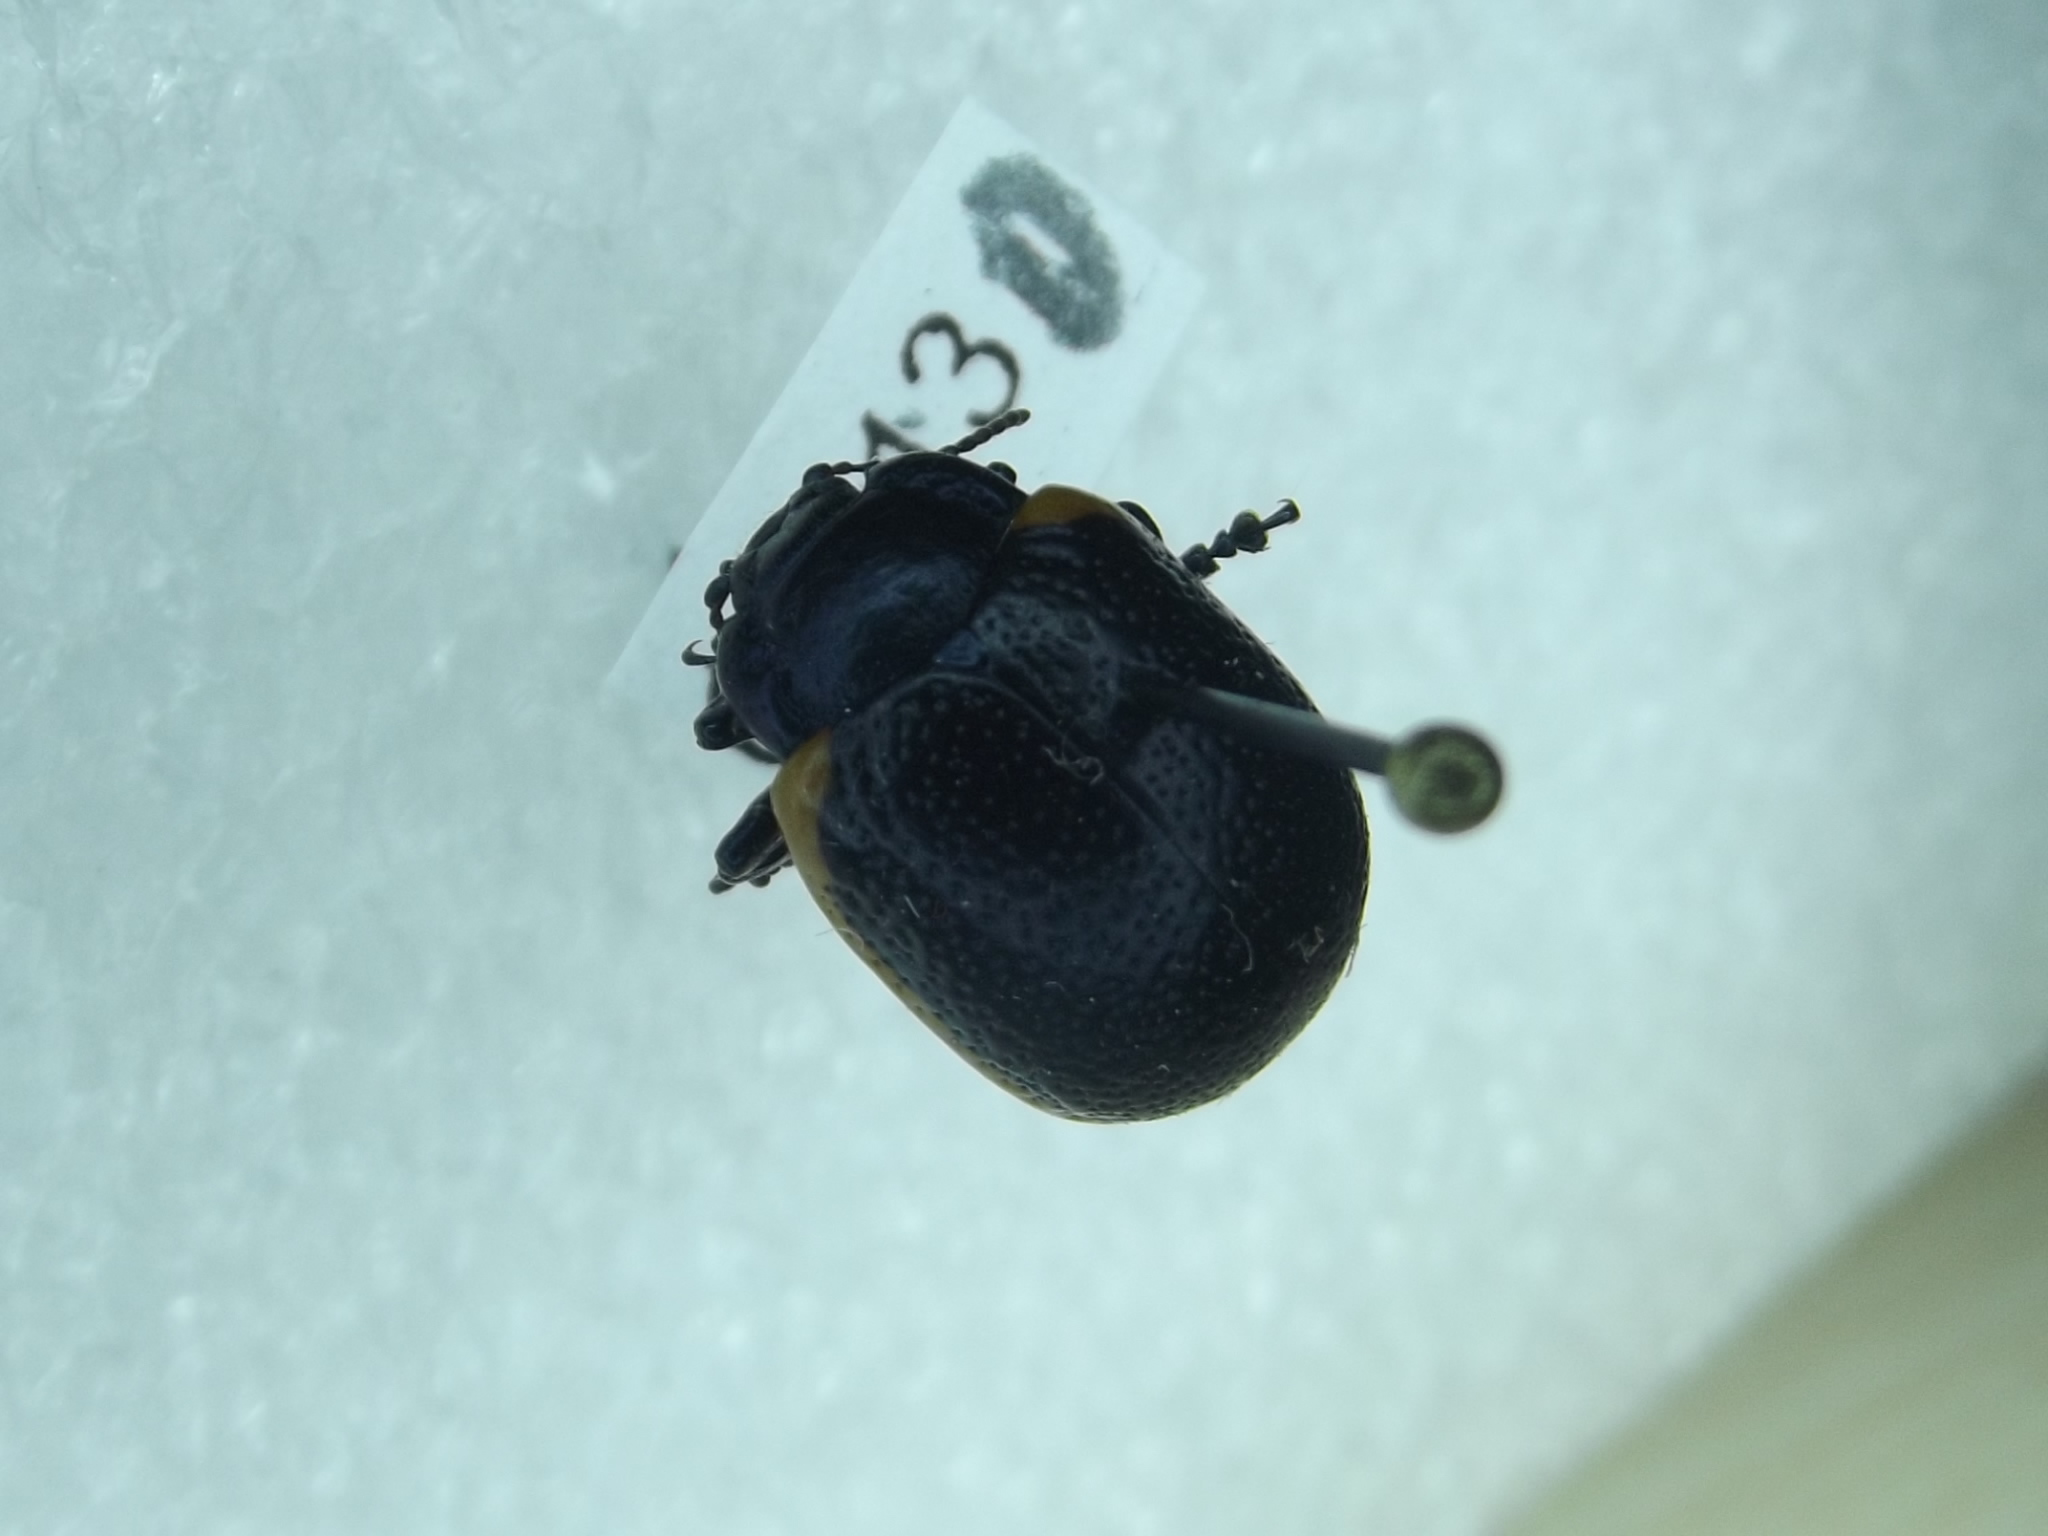Chrysolina_gypsophila: (632, 387, 1405, 1146)
